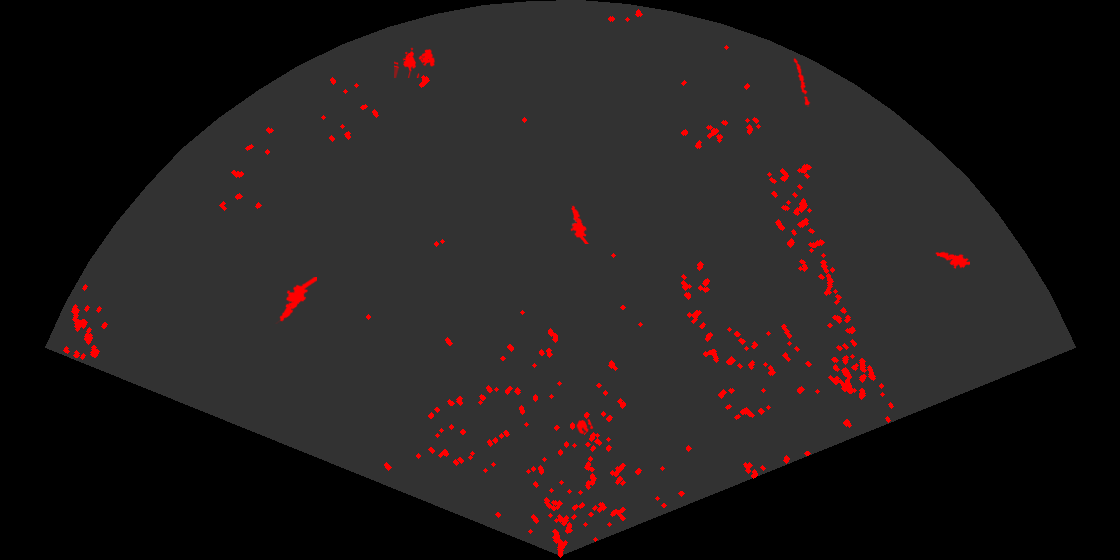ball: (575, 417, 595, 436)
cage: (394, 46, 436, 78)
chain: (792, 56, 812, 107)
frogman: (274, 277, 317, 324), (569, 204, 591, 244), (935, 250, 970, 270)
